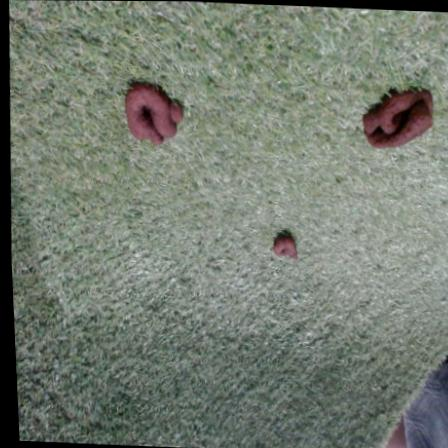dog-poop: (358, 78, 436, 158), (122, 76, 182, 146), (264, 226, 298, 264)
